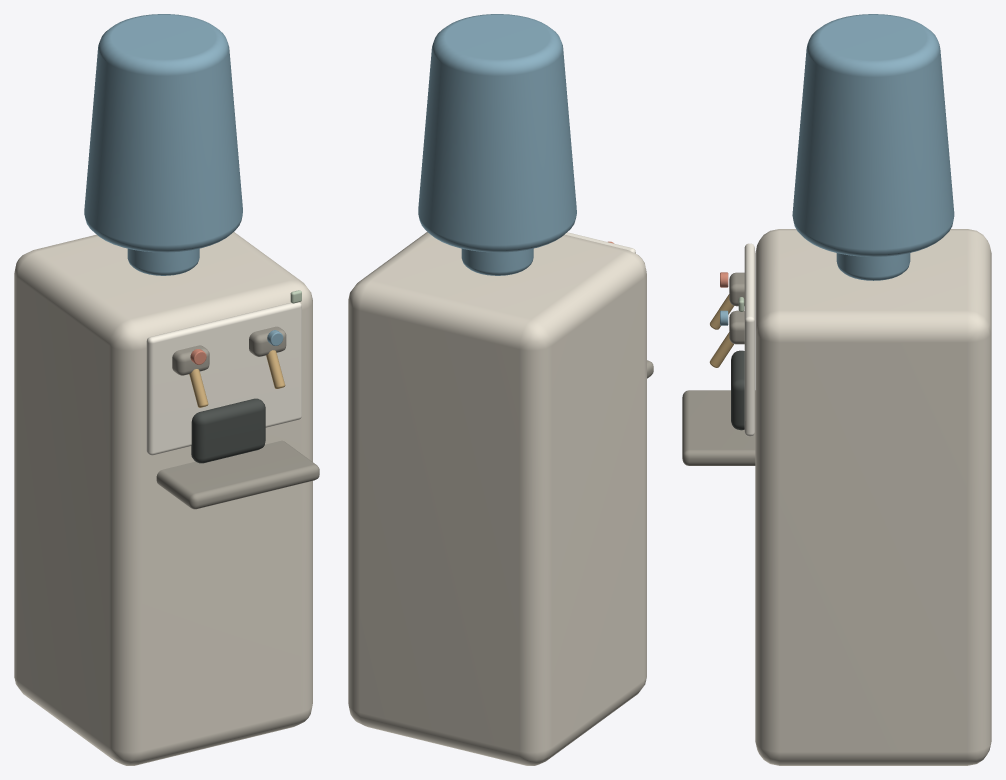
The model's file is water_dispenser.glb.
3 views of the same model, side by side, from view 1: azimuth 30°, elevation 25°; view 2: azimuth 150°, elevation 25°; view 3: azimuth 270°, elevation 25° (orthographic).
Parts seen in each view (by area): view 1: Dispenser cabinet, Water bottle, Front control fascia, Drip tray, Cup recess, Bottle neck, Tap mount, Tap mount.001; view 2: Dispenser cabinet, Water bottle, Bottle neck; view 3: Dispenser cabinet, Water bottle, Drip tray, Front control fascia, Bottle neck, Cup recess.
Part boxes in pixels (<box>): Dispenser cabinet: <box>14,232,312,765</box>; Water bottle: <box>84,14,242,252</box>; Front control fascia: <box>146,302,301,455</box>; Drip tray: <box>156,440,319,509</box>; Cup recess: <box>191,398,265,463</box>; Bottle neck: <box>127,248,199,275</box>; Tap mount: <box>172,345,209,375</box>; Tap mount.001: <box>249,326,286,356</box>; Dispenser cabinet: <box>348,232,646,765</box>; Water bottle: <box>418,14,576,252</box>; Bottle neck: <box>461,248,533,275</box>; Dispenser cabinet: <box>755,229,991,765</box>; Water bottle: <box>792,14,954,256</box>; Drip tray: <box>682,390,755,465</box>; Front control fascia: <box>744,243,754,436</box>; Bottle neck: <box>836,253,910,280</box>; Cup recess: <box>731,350,744,430</box>.
Size of the model in its own units: 0.34 by 1.09 by 0.445.
